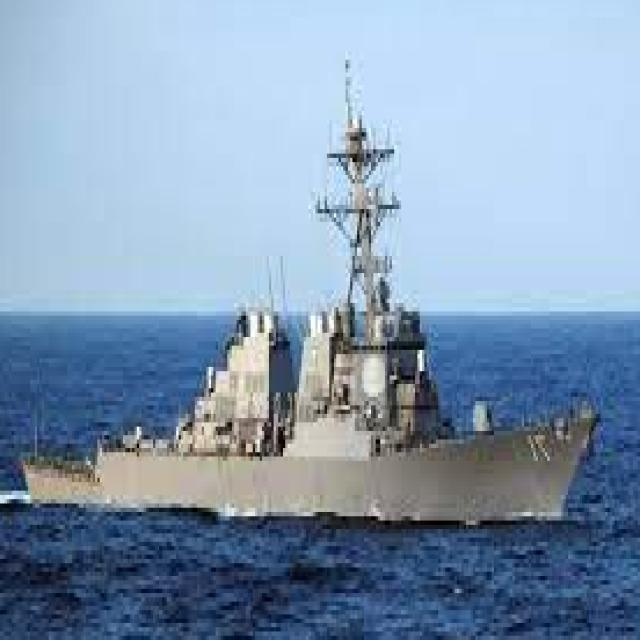navalvessels: (14, 59, 606, 534)
